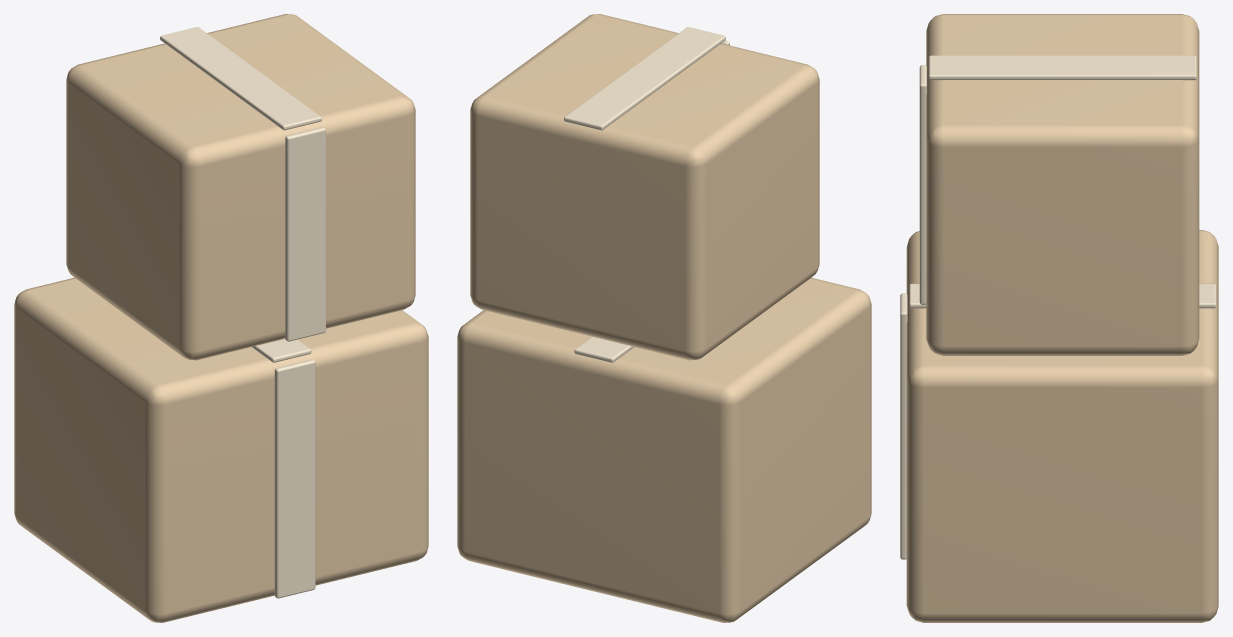
Rendered from cargo.fbx.
The picture shows the model from 3 angles, left to right: view 1: azimuth 30°, elevation 25°; view 2: azimuth 150°, elevation 25°; view 3: azimuth 270°, elevation 25°; orthographic projection. The views are drawn at different scales.
Parts seen in each view (by area): view 1: cargo; view 2: cargo; view 3: cargo.
Boxes of the visible parts, x1=… form: cargo: x1=14, y1=14, x2=428, y2=622; cargo: x1=457, y1=14, x2=871, y2=622; cargo: x1=900, y1=14, x2=1218, y2=622.
Size of the model in its own units: 72 by 113 by 65.35.
